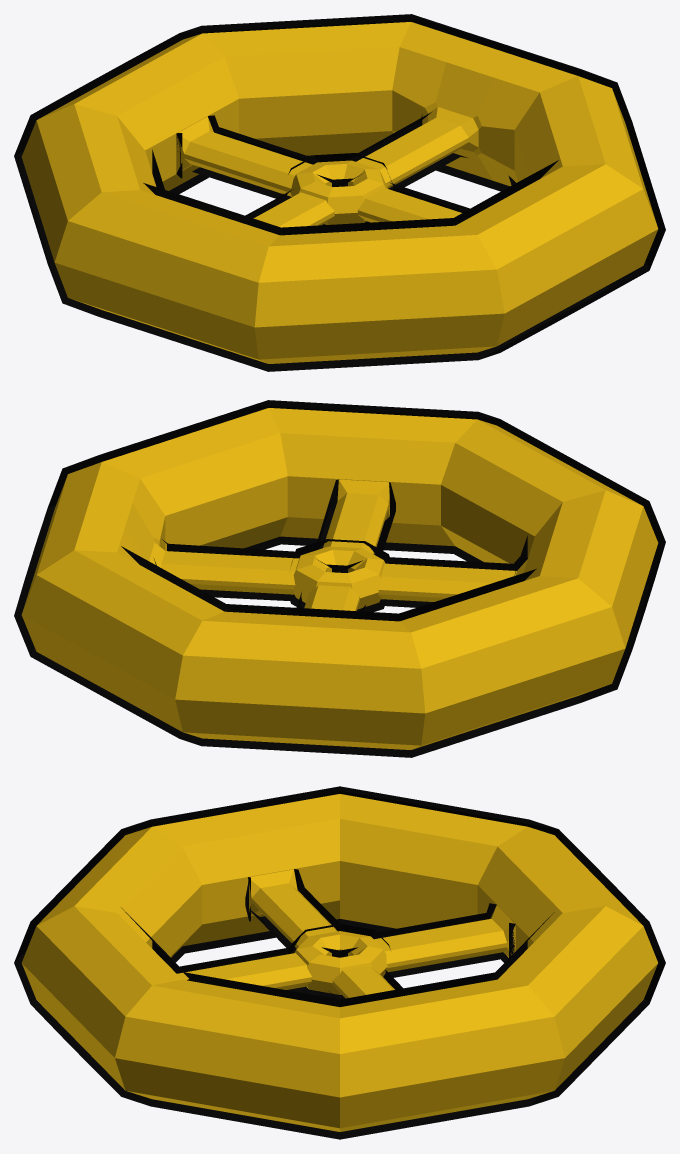
Rendered from Valve.fbx.
3 views of the same model, one above another, from view 1: azimuth 30°, elevation 25°; view 2: azimuth 150°, elevation 25°; view 3: azimuth 270°, elevation 25° (orthographic). The views are drawn at different scales.
Visible parts, largest first — view 1: Torus; view 2: Torus; view 3: Torus.
Part boxes in pixels (bbox=[...]): Torus: bbox=[14, 14, 665, 371]; Torus: bbox=[14, 400, 665, 757]; Torus: bbox=[14, 786, 665, 1139].
Size of the model in its own units: 256 by 55.14 by 256.
